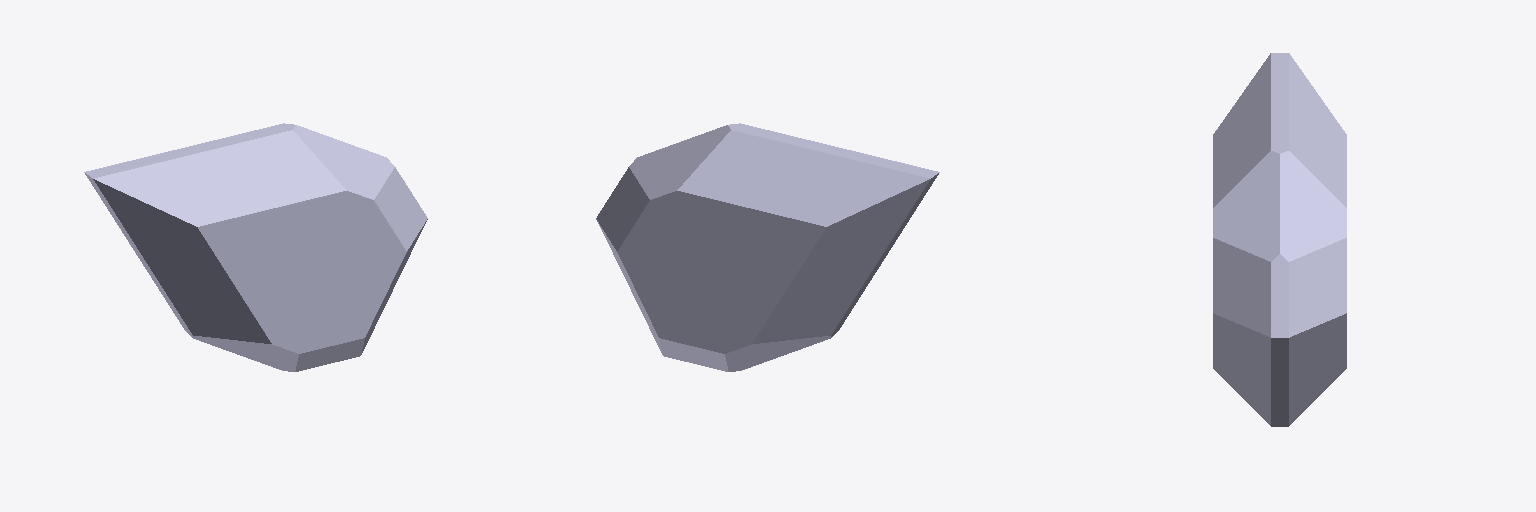
The model's file is apatite.obj.
The picture shows the model from 3 angles: view 1: azimuth 30°, elevation 25°; view 2: azimuth 150°, elevation 25°; view 3: azimuth 270°, elevation 25°; orthographic projection.
Size of the model in its own units: 2.89 by 2 by 1.